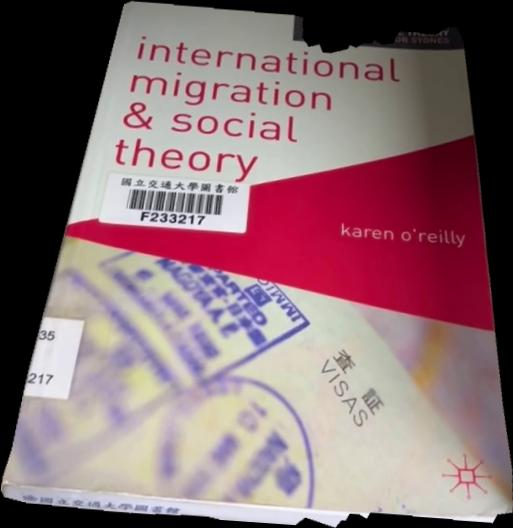flat: (1, 1, 513, 528)
